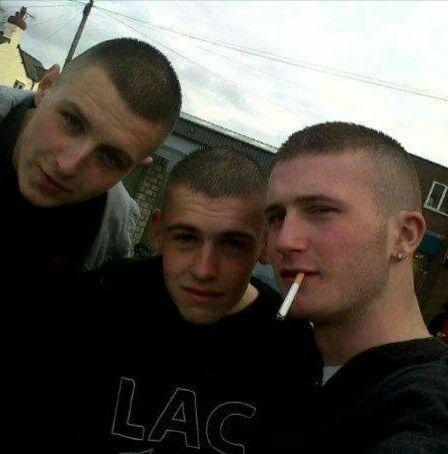cigarette: (276, 272, 305, 320)
